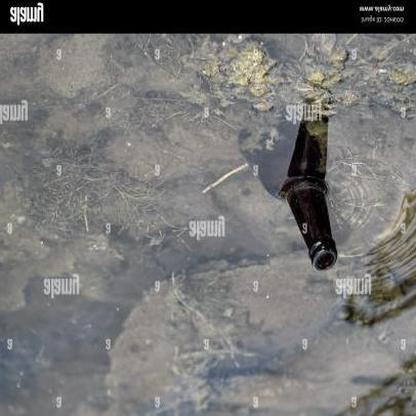plastic bottle: (240, 113, 339, 272)
